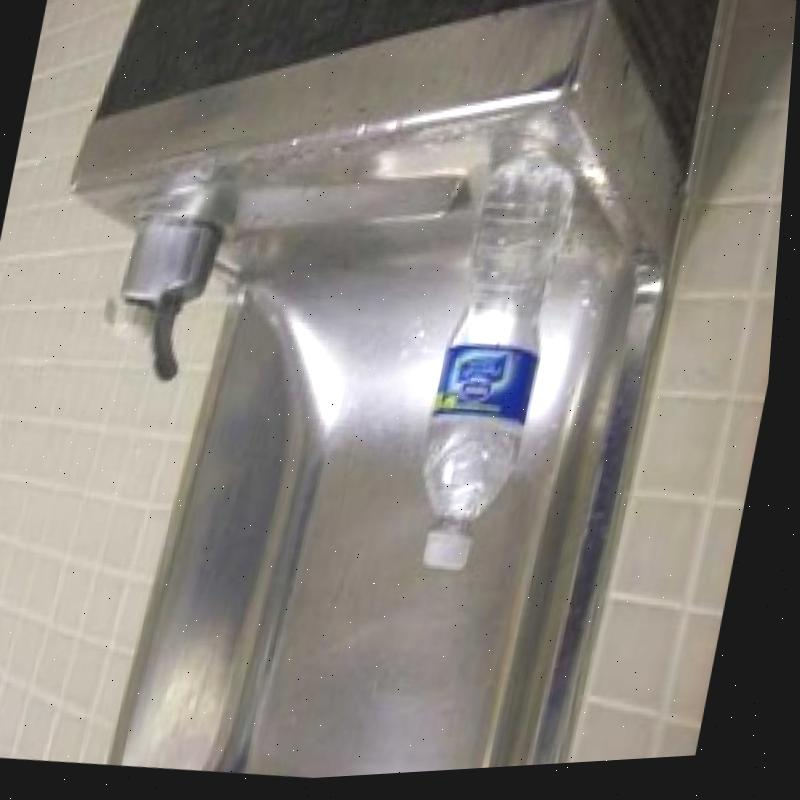botella: (410, 153, 576, 583)
